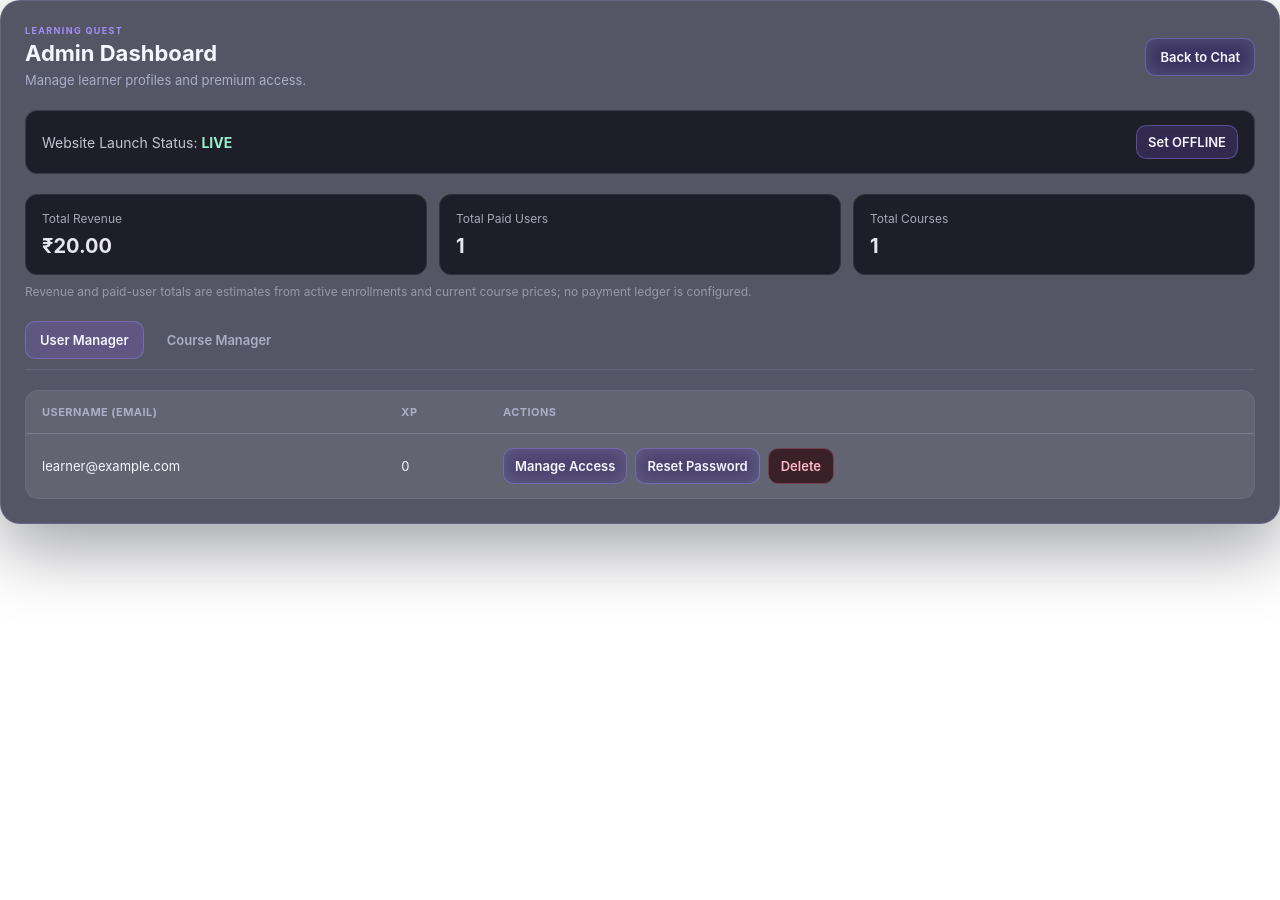
revokes an existing enrollment when its access checkbox is cleared
Step 1. Click the button "Manage Access" → (565, 466), box [503,448,627,484]
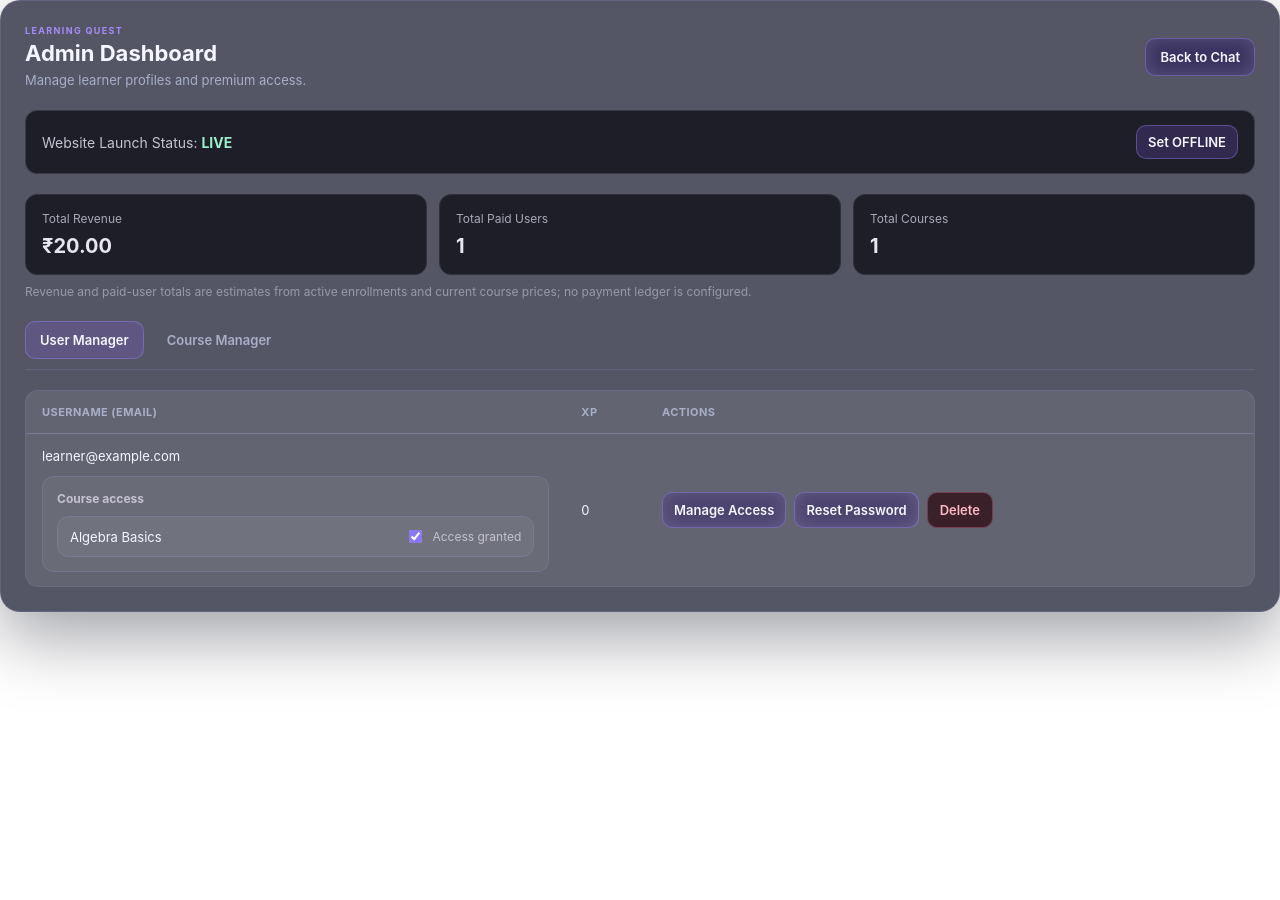
Step 2. Click the checkbox named "Revoke access to Algebra Basics for learner@example.com" → (416, 536), box [409,530,422,543]
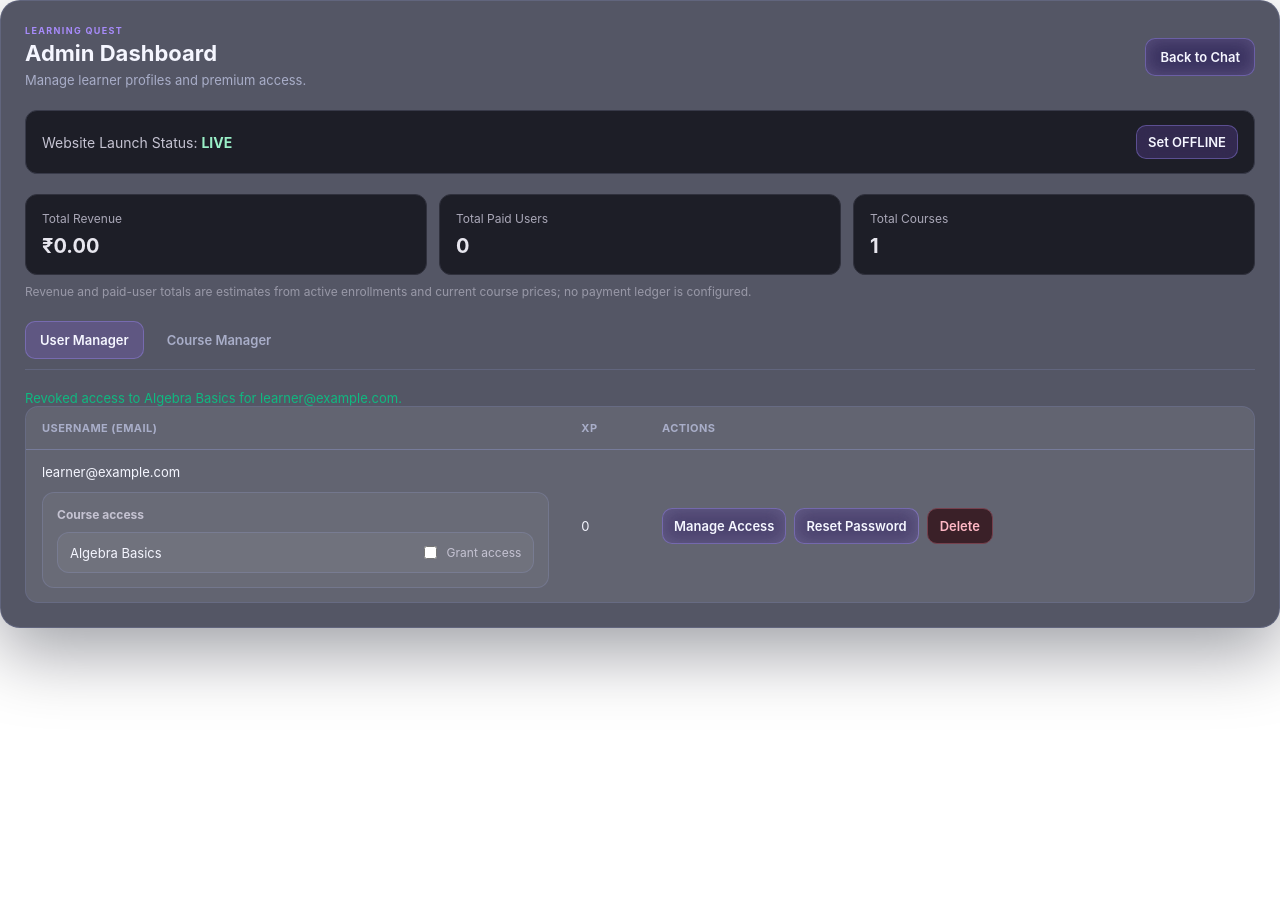
expect the checkbox named "Grant access to Algebra Basics for learner@example.com" is not checked: met, box [424,546,437,559]
